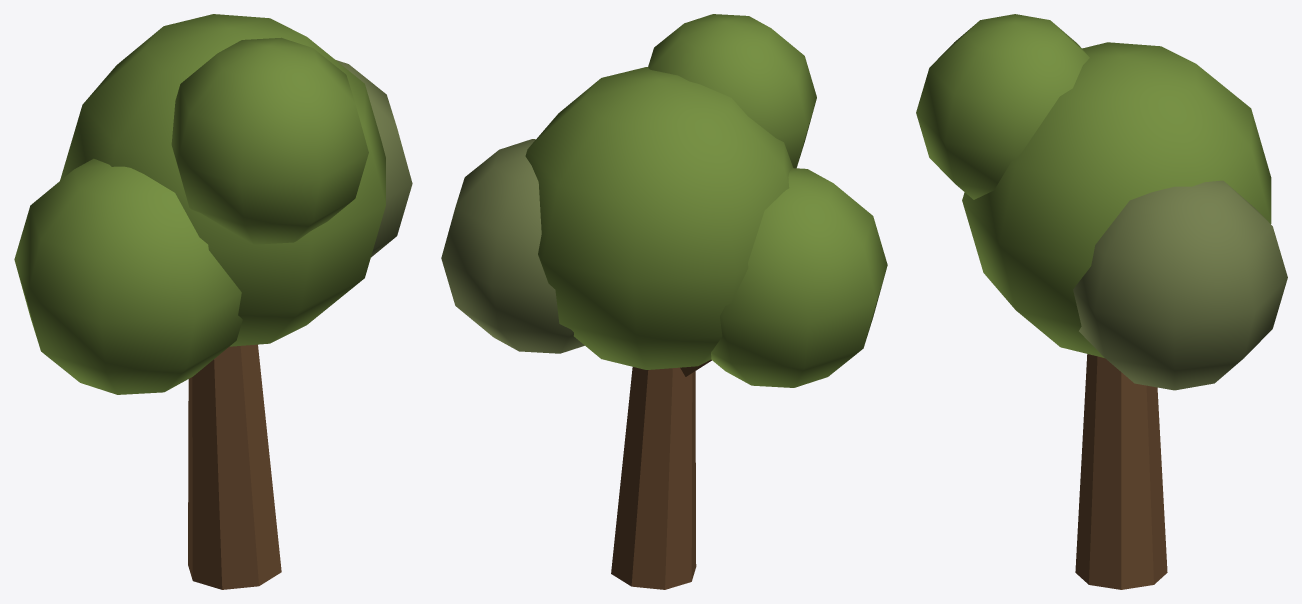
File: oak.fbx
The picture shows the model from 3 angles, left to right: view 1: azimuth 30°, elevation 25°; view 2: azimuth 150°, elevation 25°; view 3: azimuth 270°, elevation 25°; orthographic projection. The views are drawn at different scales.
Parts seen in each view (by area): view 1: Prop; view 2: Prop; view 3: Prop.
Boxes of the visible parts, x1=… form: Prop: x1=14, y1=14, x2=412, y2=589; Prop: x1=441, y1=14, x2=887, y2=589; Prop: x1=916, y1=14, x2=1287, y2=589.
Size of the model in its own units: 1.3 by 1.05 by 1.69.
